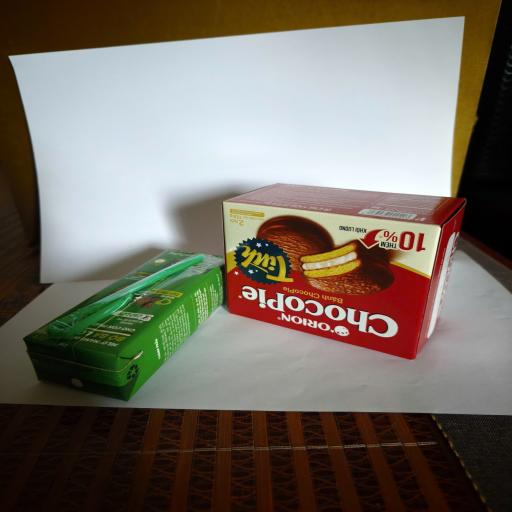chocopie: (222, 183, 467, 360)
milo: (22, 248, 228, 402)
